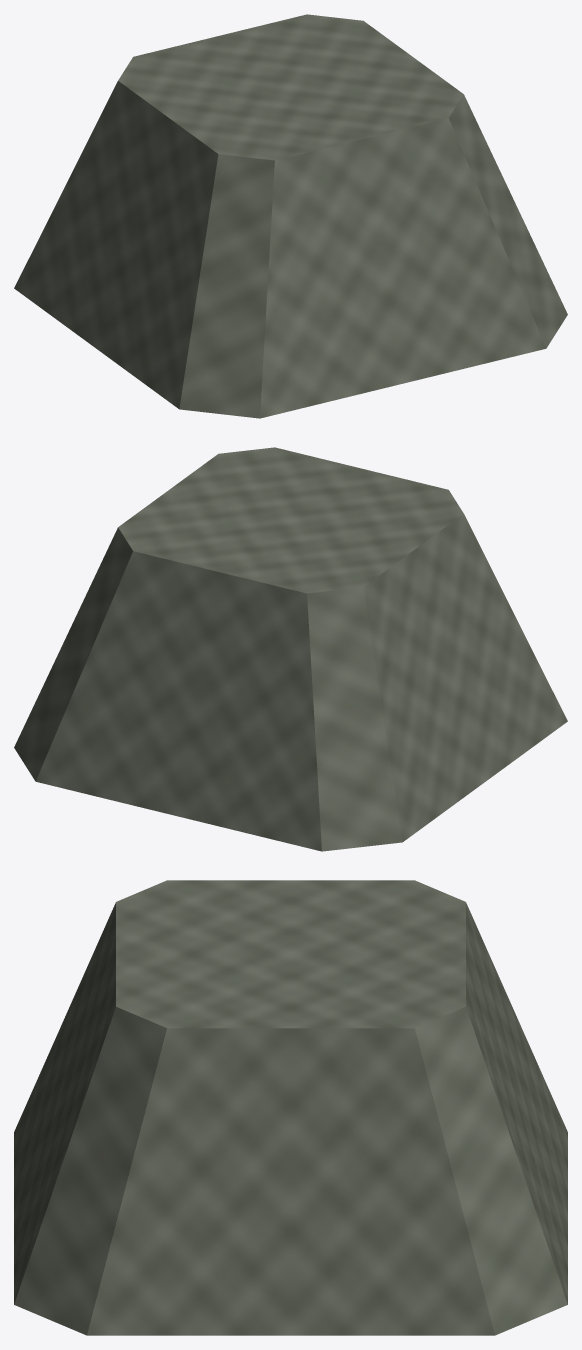
Rendered from MRP_Umpak_Stone.fbx.
3 views of the same model, one above another, from view 1: azimuth 30°, elevation 25°; view 2: azimuth 150°, elevation 25°; view 3: azimuth 270°, elevation 25° (orthographic). The views are drawn at different scales.
Parts seen in each view (by area): view 1: Body; view 2: Body; view 3: Body.
Boxes of the visible parts, x1,y1,x2,y2 form: Body: (14, 14, 567, 418); Body: (14, 447, 567, 851); Body: (14, 880, 567, 1335).
Size of the model in its own units: 0.38 by 0.2 by 0.38.
